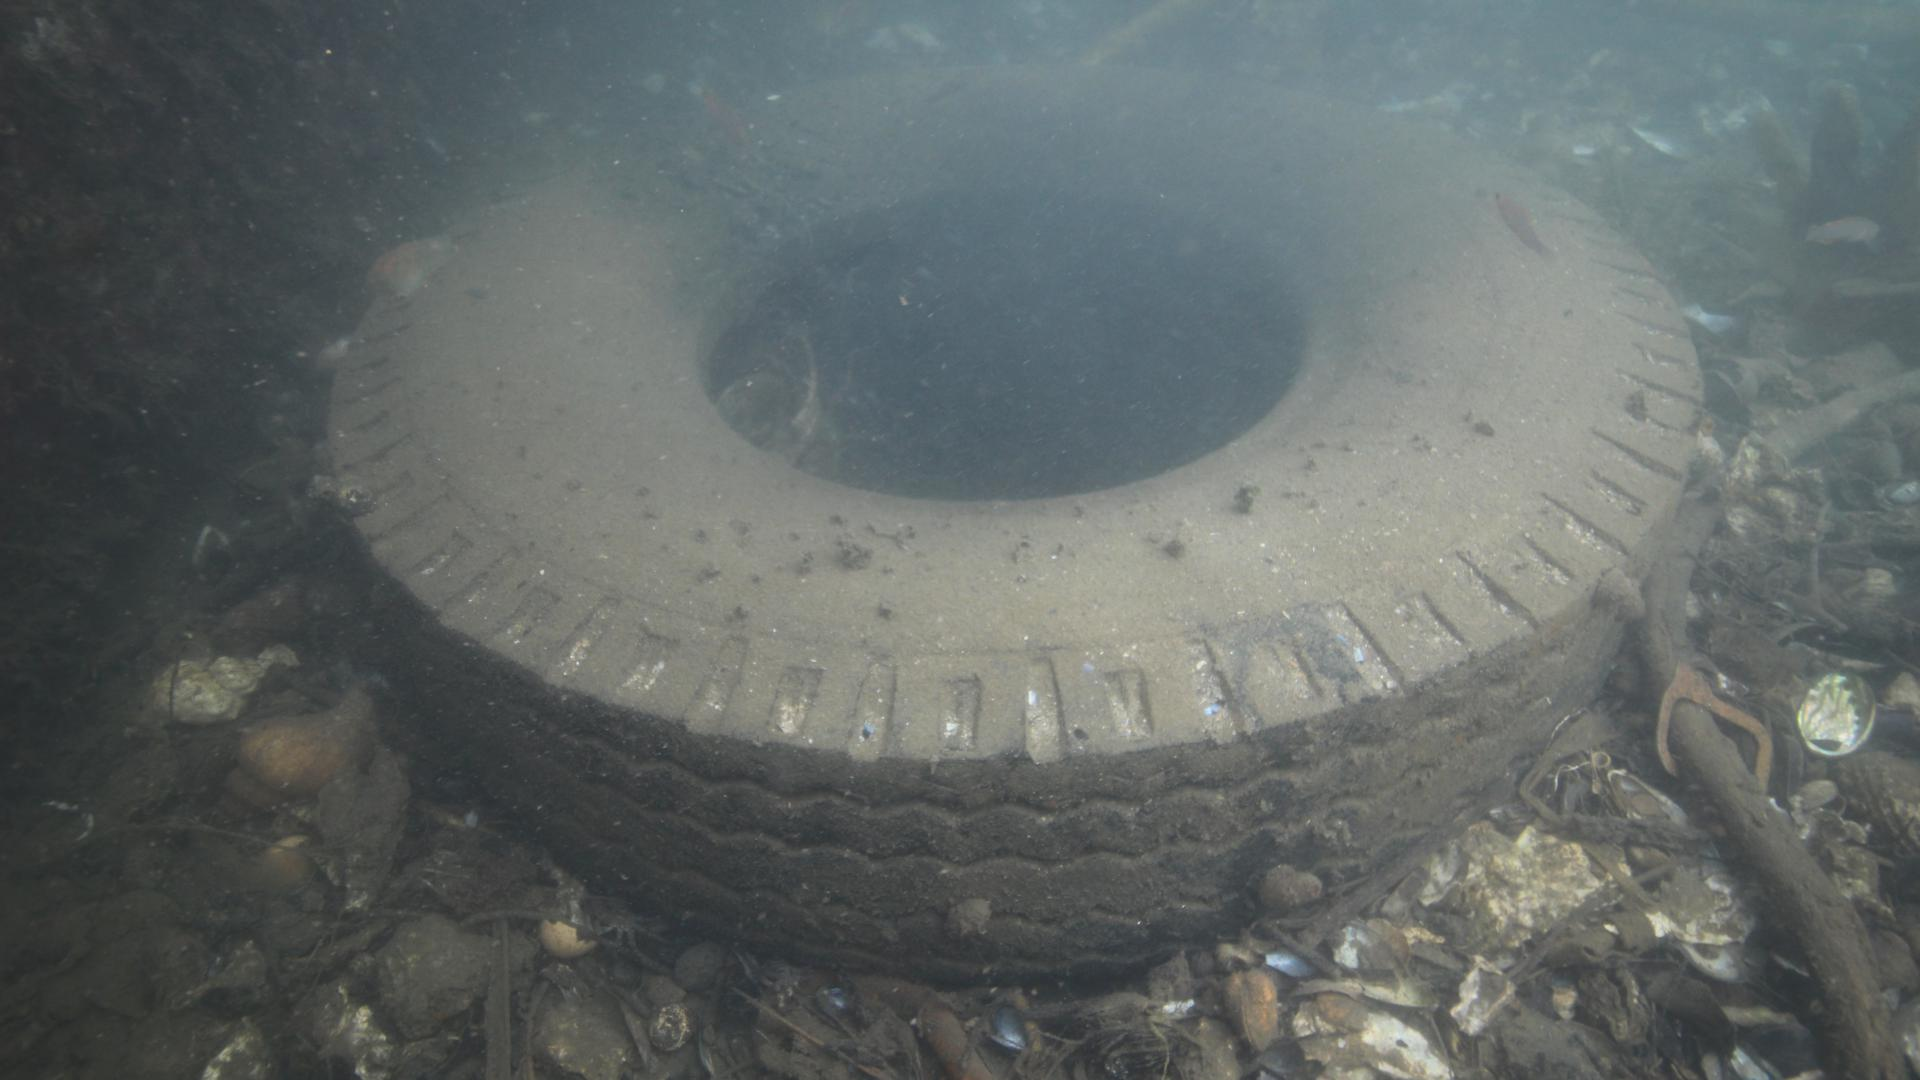tire: (326, 58, 1698, 984)
